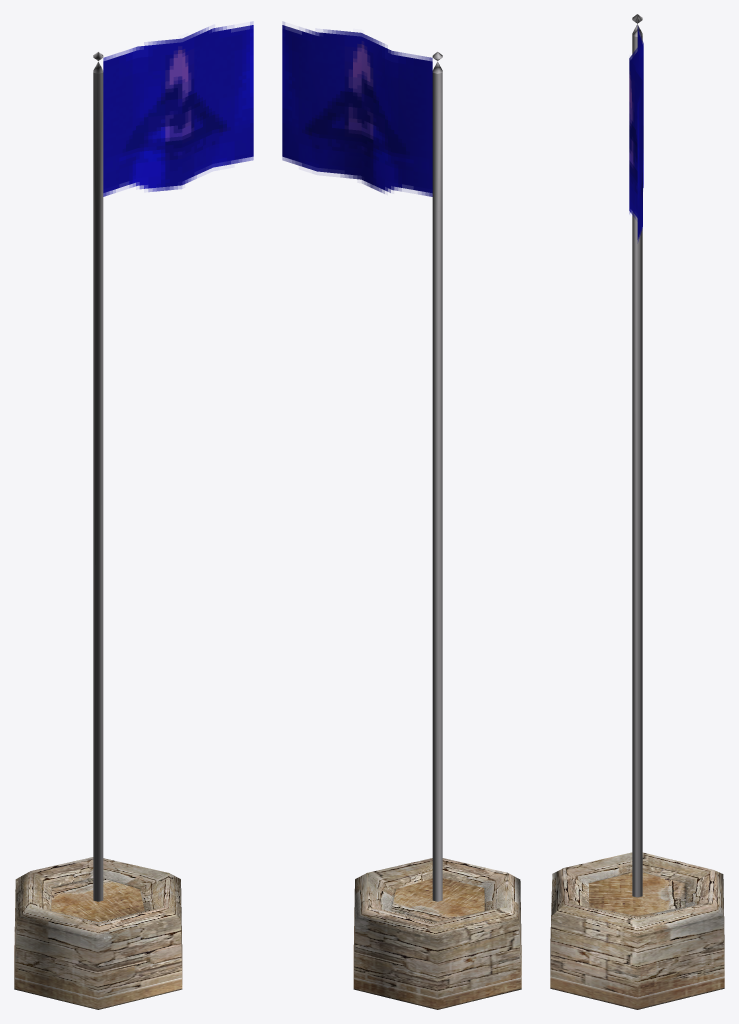
File: BSFLGBLU.glb
3 renders of one model, left to right at view 1: azimuth 30°, elevation 25°; view 2: azimuth 150°, elevation 25°; view 3: azimuth 270°, elevation 25°, orthographic. The views are drawn at different scales.
Parts seen in each view (by area): view 1: _BSFLGBLU; view 2: _BSFLGBLU; view 3: _BSFLGBLU.
Part boxes in pixels (<box>): _BSFLGBLU: <box>14,22,253,1009</box>; _BSFLGBLU: <box>282,22,521,1009</box>; _BSFLGBLU: <box>550,14,724,1009</box>.
Bounding box in the file's own units: 4.09 × 15 × 2.49.
3 materials, 3 textured.
